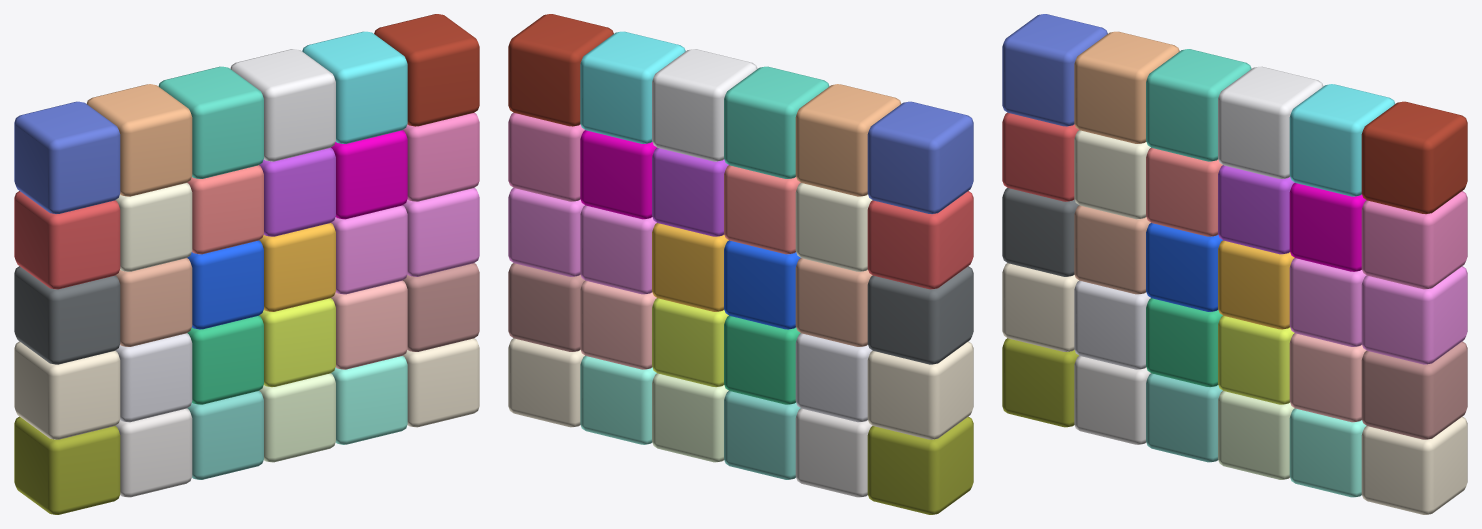
Rendered from LV_template.fbx.
3 views of the same model, side by side, from view 1: azimuth 30°, elevation 25°; view 2: azimuth 150°, elevation 25°; view 3: azimuth 330°, elevation 25° (orthographic).
Parts seen in each view (by area): view 1: template_level1, template_level19, template_level29, template_level8, template_level14, template_level13, template_level24, template_level22, template_level5, template_level15, template_level11, template_level27 (+18 smaller); view 2: template_level1, template_level19, template_level29, template_level8, template_level14, template_level13, template_level24, template_level22, template_level5, template_level15, template_level11, template_level27 (+18 smaller); view 3: template_level24, template_level21, template_level11, template_level23, template_level9, template_level22, template_level1, template_level13, template_level5, template_level15, template_level29, template_level2 (+18 smaller).
Boxes of the visible parts, x1=… form: template_level1: x1=14, y1=101, x2=120, y2=214; template_level19: x1=14, y1=191, x2=120, y2=289; template_level29: x1=14, y1=416, x2=120, y2=514; template_level8: x1=14, y1=266, x2=120, y2=364; template_level14: x1=14, y1=341, x2=120, y2=439; template_level13: x1=86, y1=84, x2=192, y2=196; template_level24: x1=374, y1=14, x2=479, y2=126; template_level22: x1=302, y1=31, x2=407, y2=143; template_level5: x1=158, y1=66, x2=263, y2=178; template_level15: x1=230, y1=49, x2=335, y2=161; template_level11: x1=403, y1=338, x2=479, y2=427; template_level27: x1=115, y1=408, x2=192, y2=497; template_level1: x1=867, y1=101, x2=973, y2=214; template_level19: x1=867, y1=191, x2=973, y2=289; template_level29: x1=867, y1=416, x2=973, y2=514; template_level8: x1=867, y1=266, x2=973, y2=364; template_level14: x1=867, y1=341, x2=973, y2=439; template_level13: x1=795, y1=84, x2=901, y2=196; template_level24: x1=508, y1=14, x2=613, y2=126; template_level22: x1=580, y1=31, x2=685, y2=143; template_level5: x1=724, y1=66, x2=829, y2=178; template_level15: x1=652, y1=49, x2=757, y2=161; template_level11: x1=508, y1=338, x2=584, y2=427; template_level27: x1=795, y1=408, x2=872, y2=497; template_level24: x1=1361, y1=101, x2=1467, y2=214; template_level21: x1=1361, y1=191, x2=1467, y2=289; template_level11: x1=1361, y1=416, x2=1467, y2=514; template_level23: x1=1361, y1=266, x2=1467, y2=364; template_level9: x1=1361, y1=341, x2=1467, y2=439; template_level22: x1=1289, y1=84, x2=1395, y2=196; template_level1: x1=1002, y1=14, x2=1107, y2=126; template_level13: x1=1074, y1=31, x2=1179, y2=143; template_level5: x1=1146, y1=49, x2=1251, y2=161; template_level15: x1=1218, y1=66, x2=1323, y2=178; template_level29: x1=1002, y1=338, x2=1078, y2=427; template_level2: x1=1289, y1=408, x2=1366, y2=497.
Size of the model in its own units: 969 by 807 by 161.
